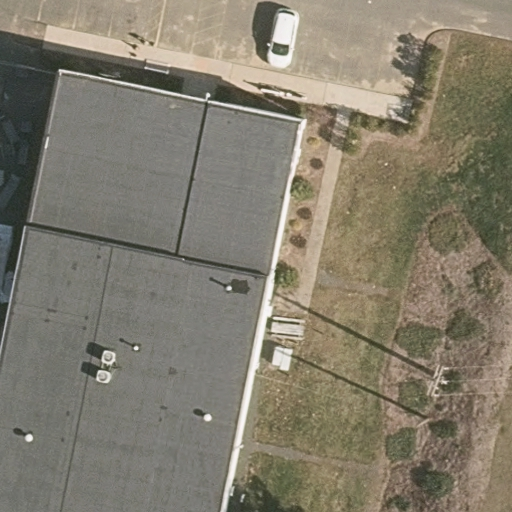DT: (415, 355, 456, 402)
